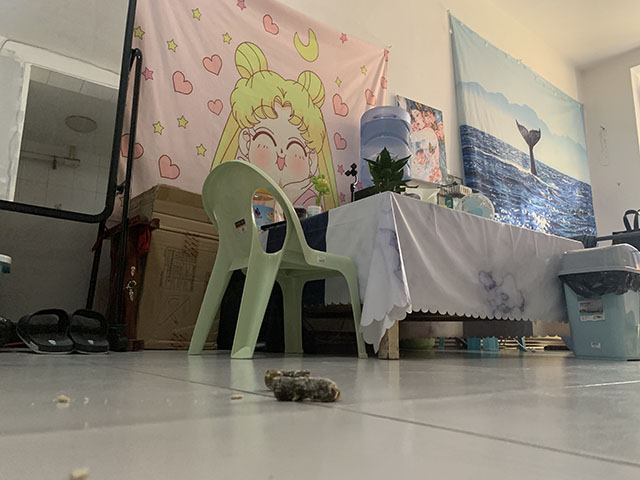feces: (263, 368, 341, 404)
slippers: (19, 306, 72, 354), (68, 306, 113, 356)
stool: (186, 159, 369, 361)
table: (261, 190, 587, 360)
trashcan: (558, 242, 640, 362)
